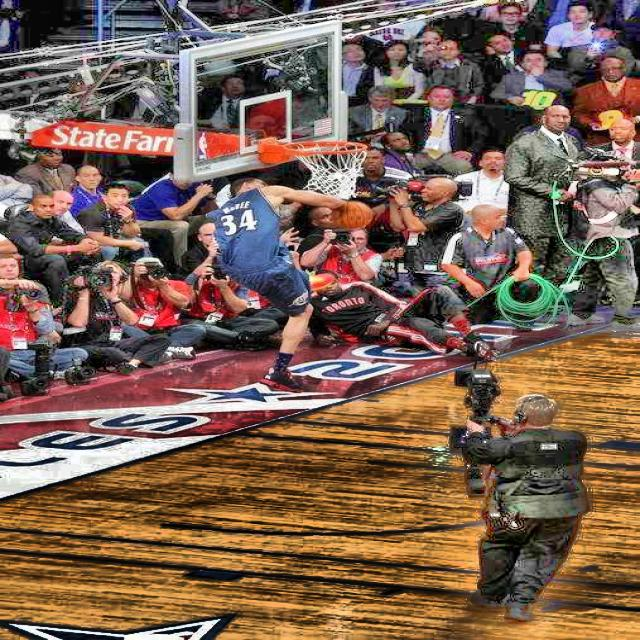rim: (282, 141, 369, 195)
